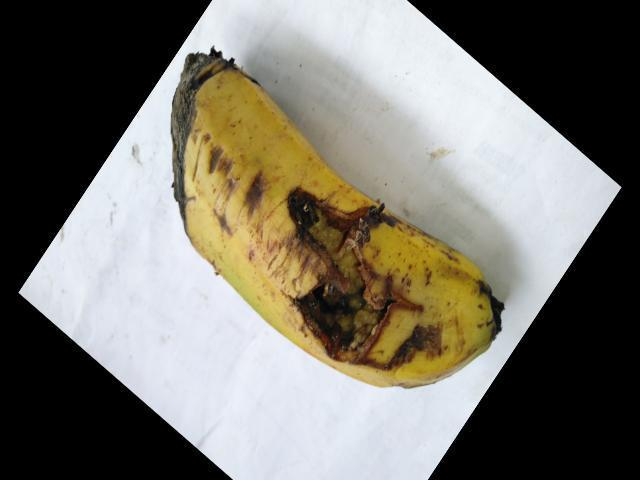rotten: (146, 36, 504, 401)
